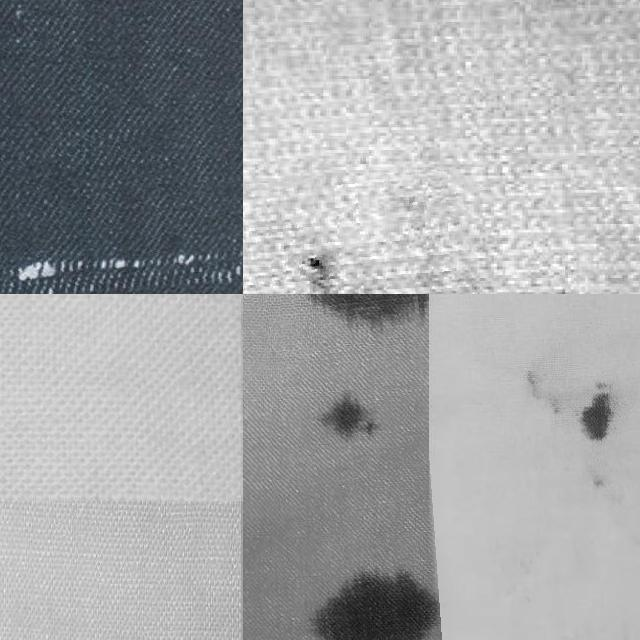Thread_other: (264, 294, 435, 640), (519, 340, 640, 504)
stains: (0, 118, 243, 294), (243, 171, 482, 294)
